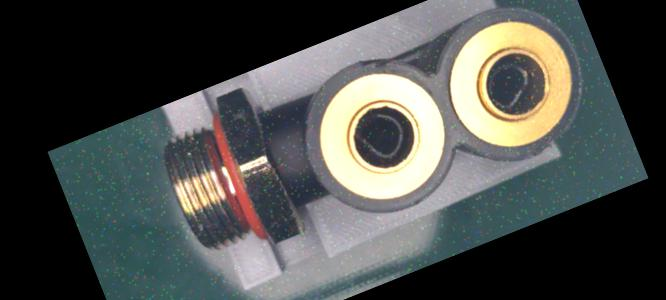bump: (351, 47, 397, 78), (530, 129, 571, 156)
joint line: (273, 149, 305, 167)
off-centered: (477, 50, 544, 115), (350, 106, 415, 165)
white mark: (283, 160, 304, 178)
